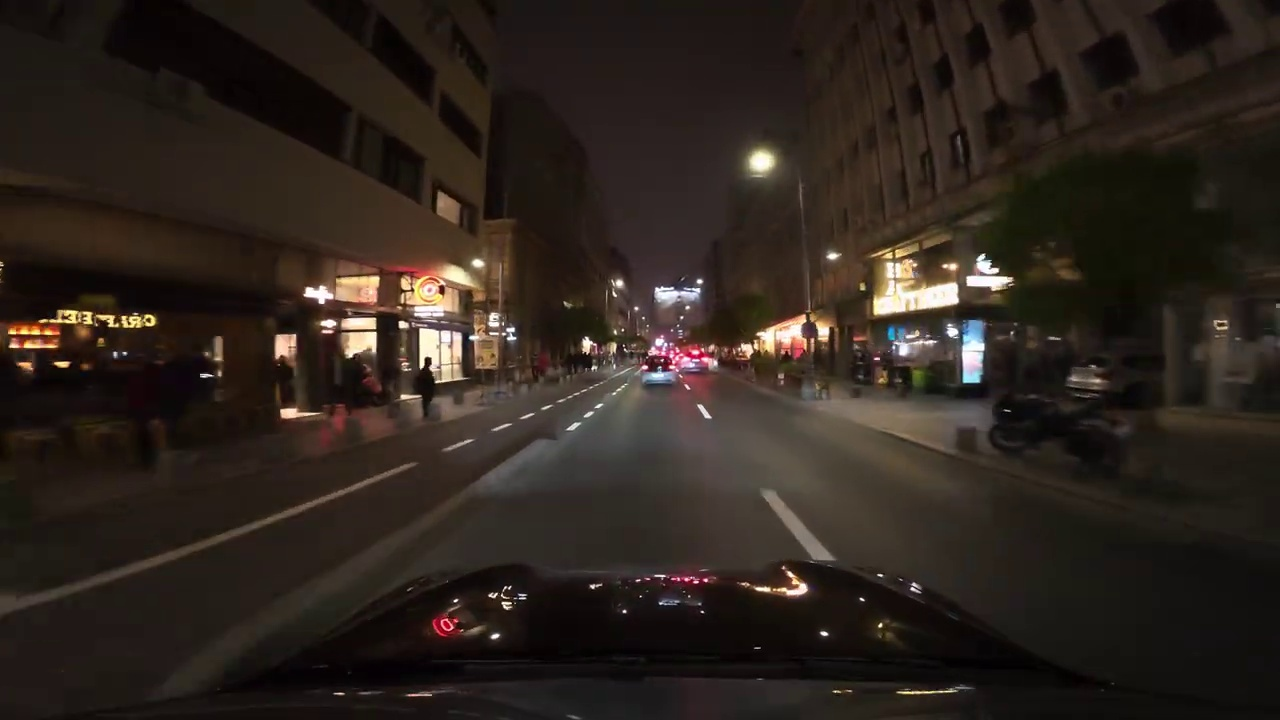acesa: (747, 147, 777, 176), (608, 276, 628, 297), (821, 249, 843, 268)
